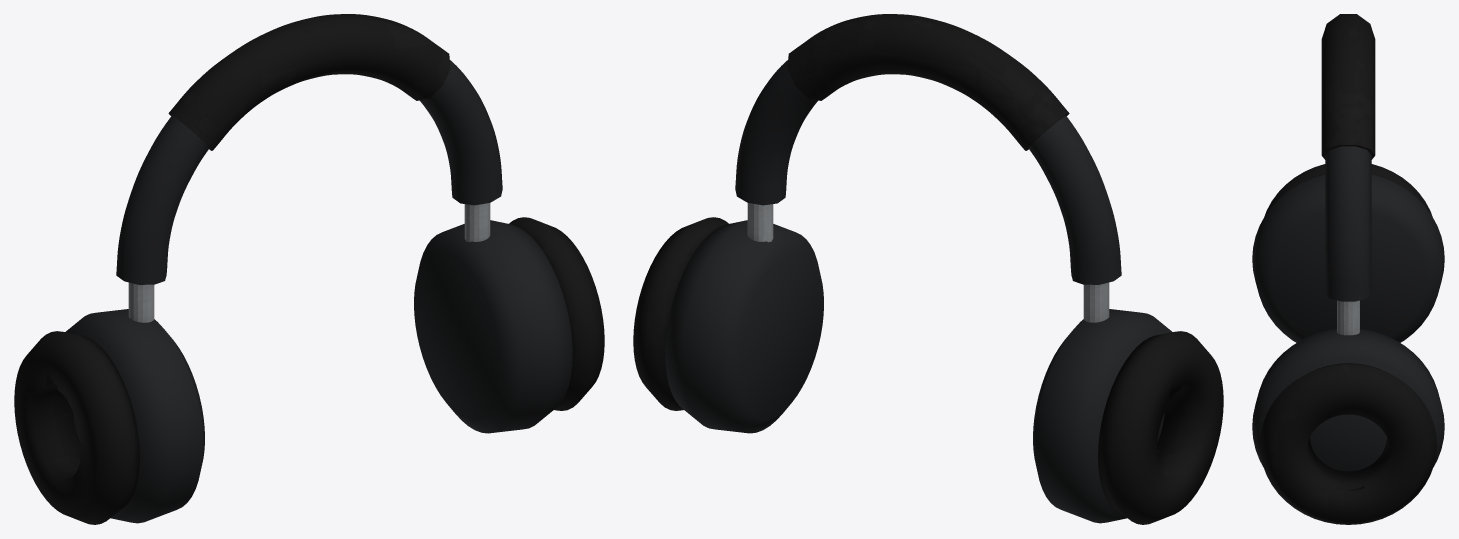
Rendered from black.glb.
3 renders of one model, left to right at view 1: azimuth 30°, elevation 25°; view 2: azimuth 150°, elevation 25°; view 3: azimuth 270°, elevation 25°, orthographic. The views are drawn at different scales.
Visible parts, largest first — view 1: plastic_primary, leather_cushion, aluminium; view 2: plastic_primary, leather_cushion, aluminium; view 3: plastic_primary, leather_cushion, aluminium.
Boxes of the visible parts, box(x1,y1,x2,y2) form: plastic_primary: box(65, 60, 572, 523); leather_cushion: box(14, 14, 604, 524); aluminium: box(128, 203, 490, 322); plastic_primary: box(665, 60, 1172, 523); leather_cushion: box(633, 14, 1223, 524); aluminium: box(747, 203, 1109, 322); plastic_primary: box(1252, 146, 1444, 471); leather_cushion: box(1260, 14, 1436, 524); aluminium: box(1337, 300, 1359, 335).
Bounding box in the file's own units: 0.27 × 0.2283 × 0.1.
3 materials, 2 textured.
